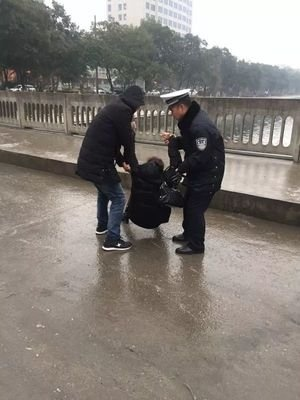falling: (113, 146, 185, 244)
